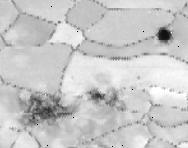good_void: (22, 90, 70, 127), (87, 87, 106, 104), (156, 26, 173, 43), (104, 92, 118, 106), (115, 99, 129, 112)
